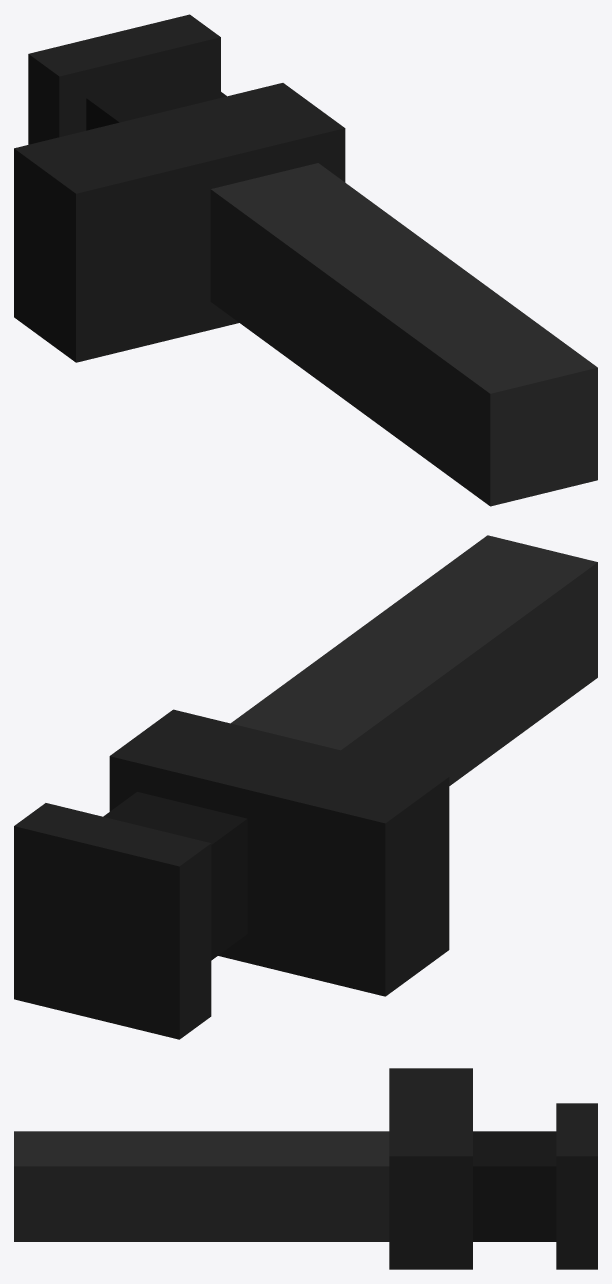
Rendered from Baton.fbx.
3 renders of one model, top to bottom at view 1: azimuth 30°, elevation 25°; view 2: azimuth 150°, elevation 25°; view 3: azimuth 270°, elevation 25°, orthographic. The views are drawn at different scales.
Visible parts, largest first — view 1: cube_3, cube_2, cube, cube_1; view 2: cube_2, cube_3, cube, cube_1; view 3: cube_3, cube_2, cube_1, cube.
Part boxes in pixels (x1,y1,x2,y2): cube_3: (210, 163, 597, 506); cube_2: (14, 83, 345, 362); cube: (28, 14, 220, 144); cube_1: (86, 72, 226, 130); cube_2: (109, 709, 449, 996); cube_3: (231, 535, 597, 785); cube: (14, 803, 211, 1039); cube_1: (103, 792, 247, 960); cube_3: (14, 1131, 389, 1241); cube_2: (389, 1068, 472, 1269); cube_1: (473, 1131, 556, 1241); cube: (556, 1103, 597, 1269).
Bounding box in the file's own units: 31.25 × 18.75 × 87.5.
1 material, 1 textured.
